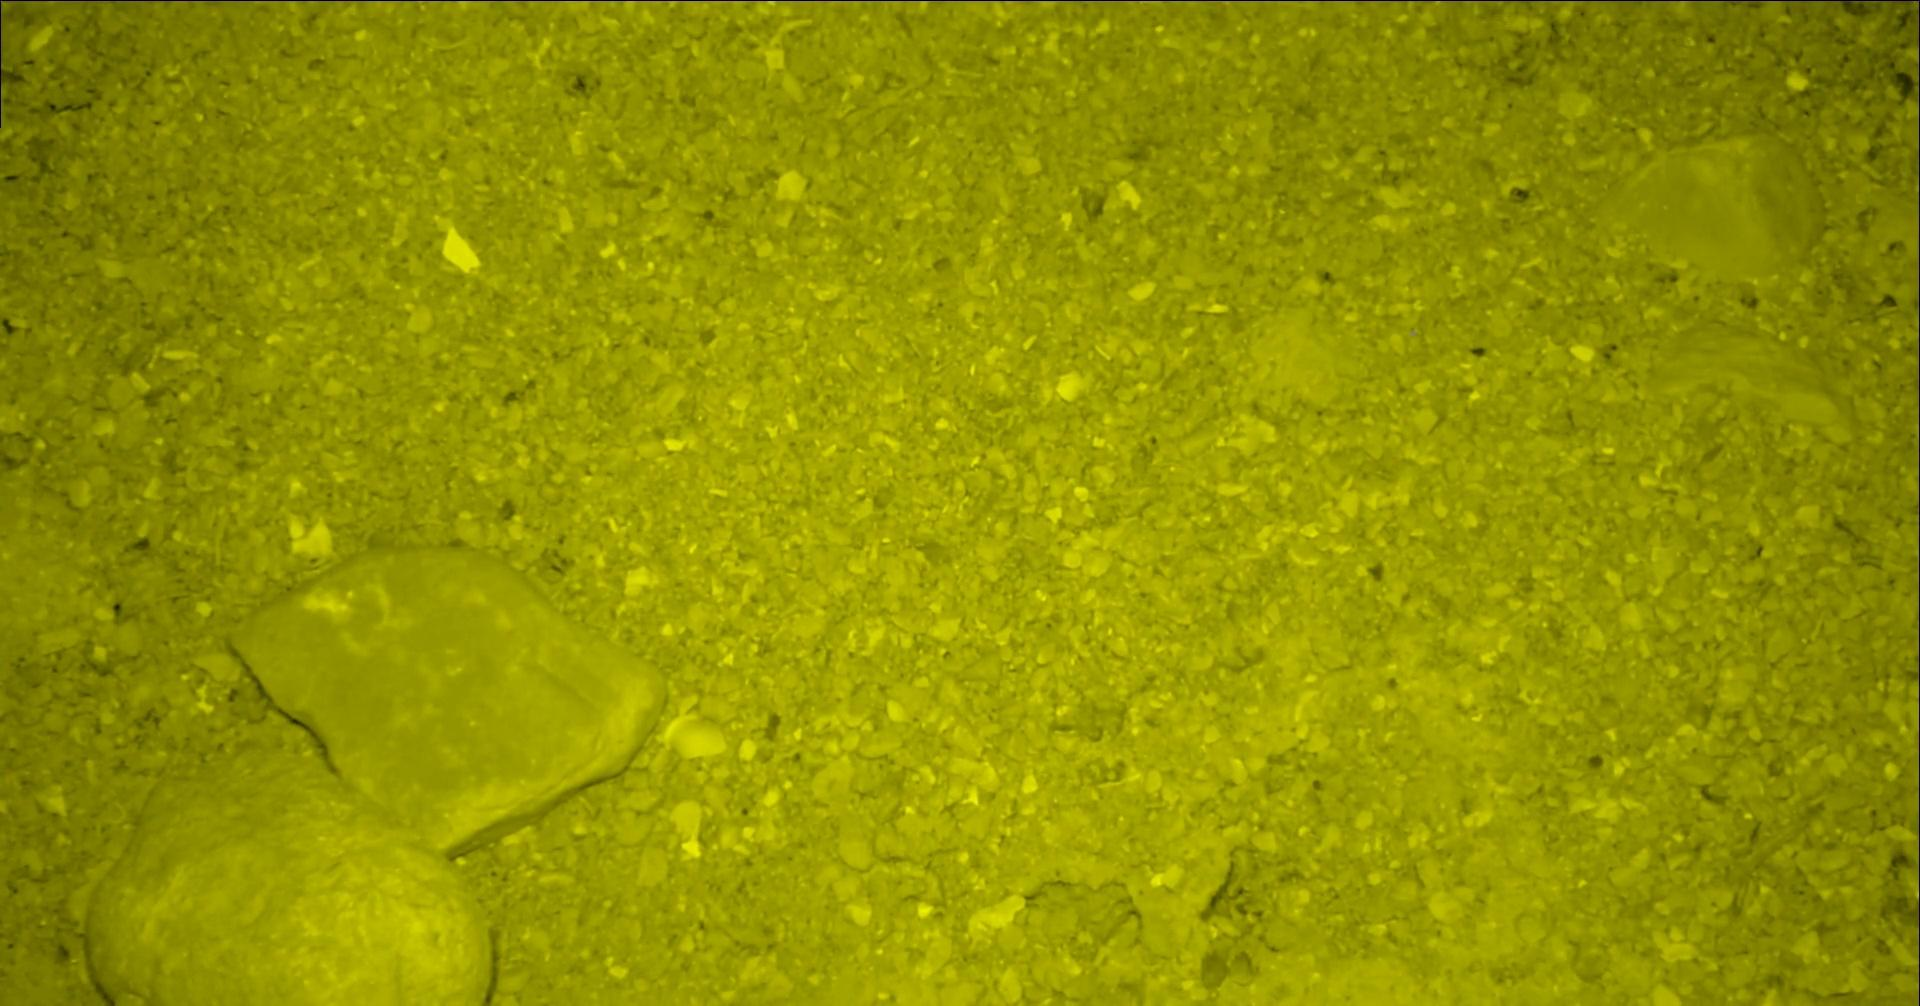ant: (1823, 0, 1919, 47)
